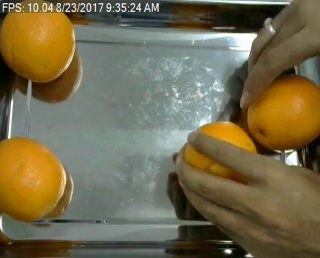Orange: (1, 1, 77, 83), (1, 135, 67, 218)
